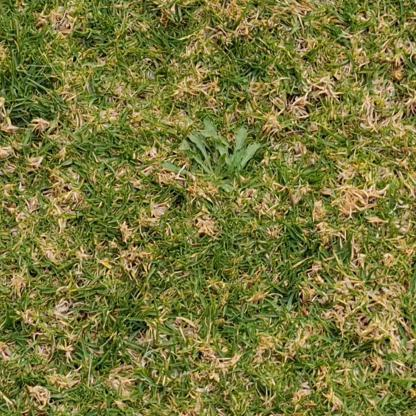Weeds: (160, 116, 261, 193)
